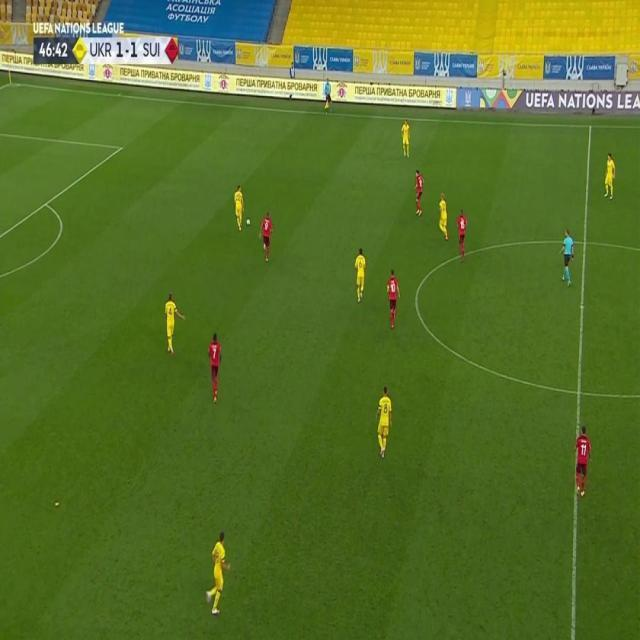ball: (246, 217, 252, 227)
player: (204, 531, 232, 617), (573, 424, 593, 499), (163, 291, 186, 355), (206, 330, 224, 403), (375, 384, 392, 459), (385, 268, 402, 331), (353, 246, 366, 303), (260, 211, 274, 263), (436, 192, 450, 241), (602, 152, 616, 200), (456, 208, 468, 263), (413, 168, 425, 217), (233, 184, 245, 232), (400, 118, 411, 159)
referee: (559, 227, 576, 287), (322, 78, 334, 115)
